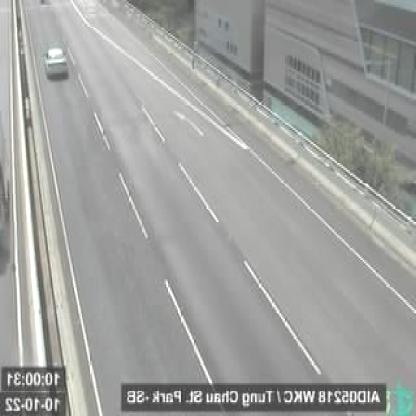Car: (43, 43, 70, 80)
